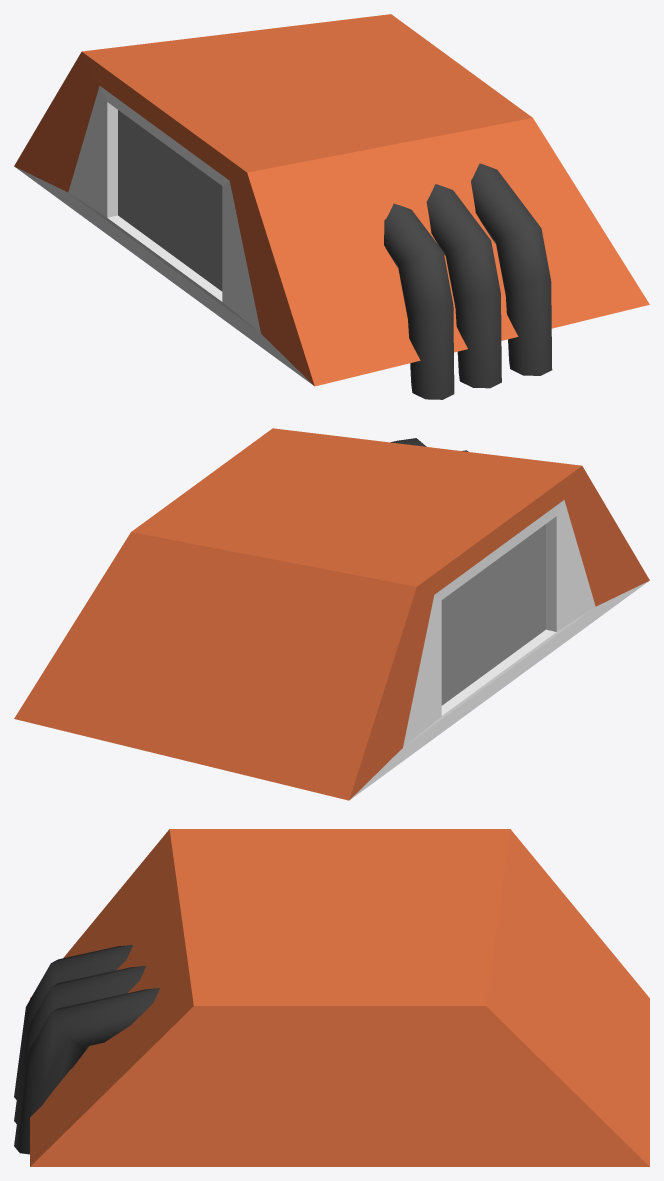
File: Machine_4.fbx
3 views of the same model, one above another, from view 1: azimuth 30°, elevation 25°; view 2: azimuth 150°, elevation 25°; view 3: azimuth 270°, elevation 25° (orthographic). The views are drawn at different scales.
Parts seen in each view (by area): view 1: Machine_4; view 2: Machine_4; view 3: Machine_4.
Part boxes in pixels (x1,y1,x2,y2): Machine_4: (14,14,649,399); Machine_4: (14,428,649,800); Machine_4: (14,829,649,1166).
Size of the model in its own units: 630 by 362 by 1005.
